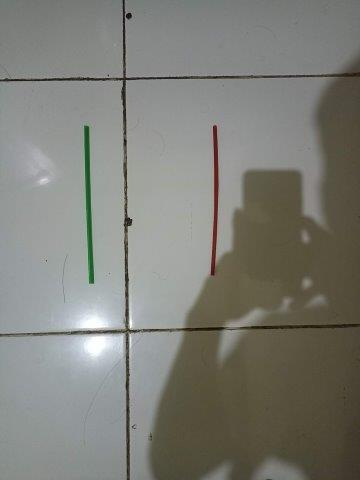sedotan: (84, 126, 94, 284), (210, 126, 219, 275)
